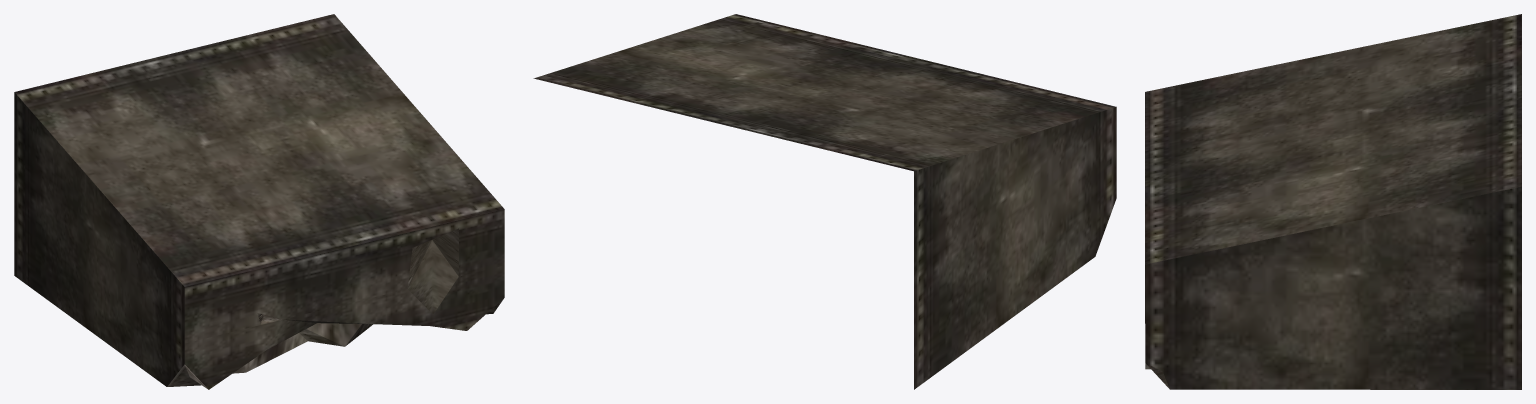
File: Fort03.glb
3 renders of one model, left to right at view 1: azimuth 30°, elevation 25°; view 2: azimuth 150°, elevation 25°; view 3: azimuth 270°, elevation 25°, orthographic. The views are drawn at different scales.
Parts seen in each view (by area): view 1: model_Fort03; view 2: model_Fort03; view 3: model_Fort03.
Boxes of the visible parts, x1,y1,x2,y2 form: model_Fort03: (14,14,504,389); model_Fort03: (533,14,1116,389); model_Fort03: (1145,14,1521,389).
Bounding box in the file's own units: 3.5 × 1.92 × 3.23.
Materials: 2 (2 with a texture image).
